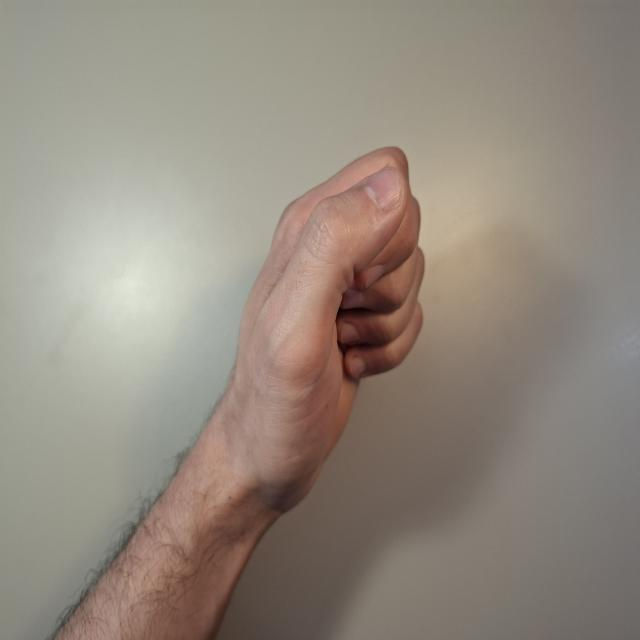glove_off: (224, 141, 426, 533)
